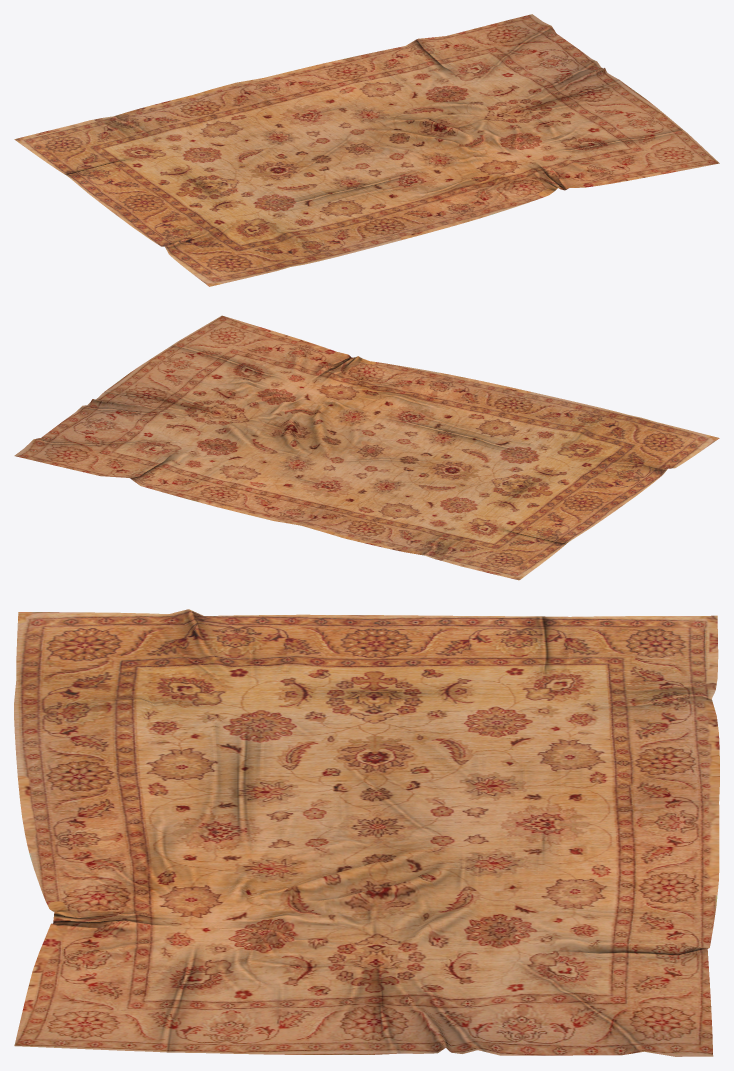
File: SM_PersianCarpet_Big.fbx
3 views of the same model, one above another, from view 1: azimuth 30°, elevation 25°; view 2: azimuth 150°, elevation 25°; view 3: azimuth 270°, elevation 25° (orthographic). The views are drawn at different scales.
Parts seen in each view (by area): view 1: SM_PersianCarpet_Big_LOD0; view 2: SM_PersianCarpet_Big_LOD0; view 3: SM_PersianCarpet_Big_LOD0.
Boxes of the visible parts, x1,y1,x2,y2 form: SM_PersianCarpet_Big_LOD0: (14,14,719,286); SM_PersianCarpet_Big_LOD0: (14,315,719,580); SM_PersianCarpet_Big_LOD0: (14,609,719,1056).
Size of the model in its own units: 575 by 385 by 5.59.
Materials: 1 (1 with a texture image).
